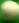white: (0, 0, 19, 23)
